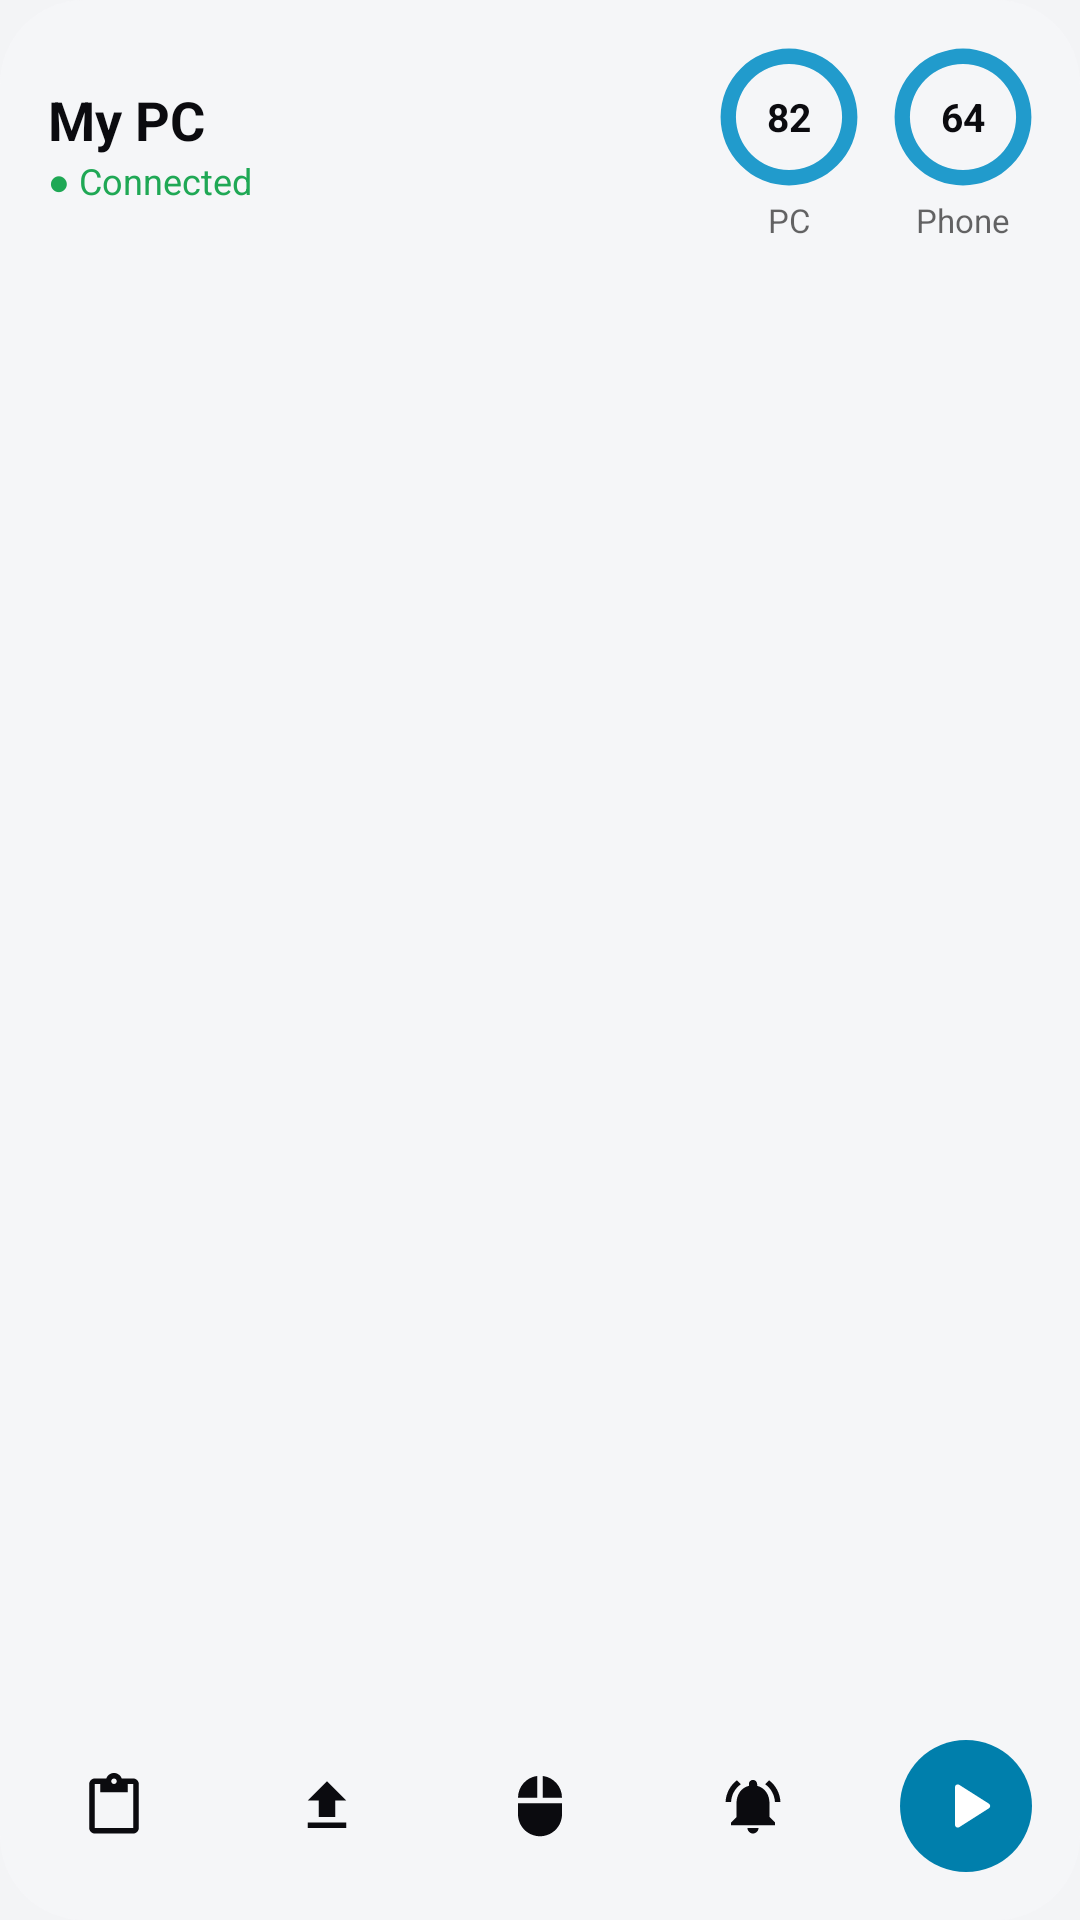

Point at icon controls on the screen. Image size 1080 x 1920, points as point (x, y).
clipboard: point (114, 1803)
mouse: point (540, 1806)
play: point (966, 1806)
ring: point (753, 1807)
upload: point (327, 1804)
